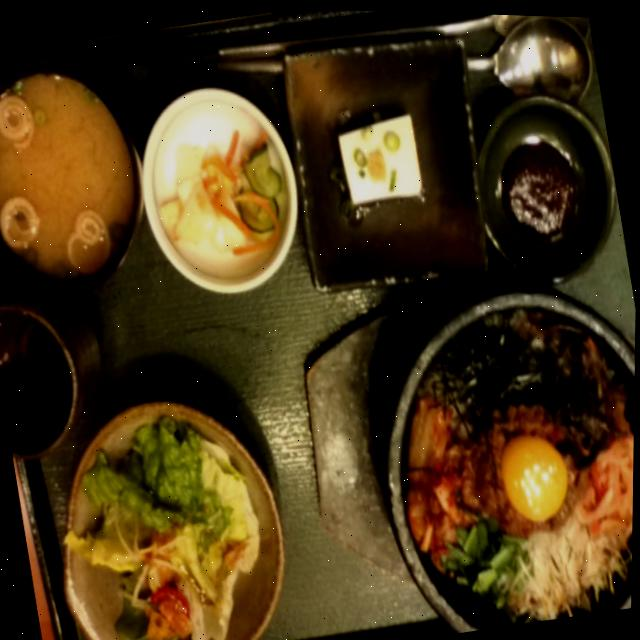汤锅炖物: (0, 56, 146, 292)
蔬菜料理: (61, 402, 285, 640)
豆腐料理: (320, 91, 444, 228)
